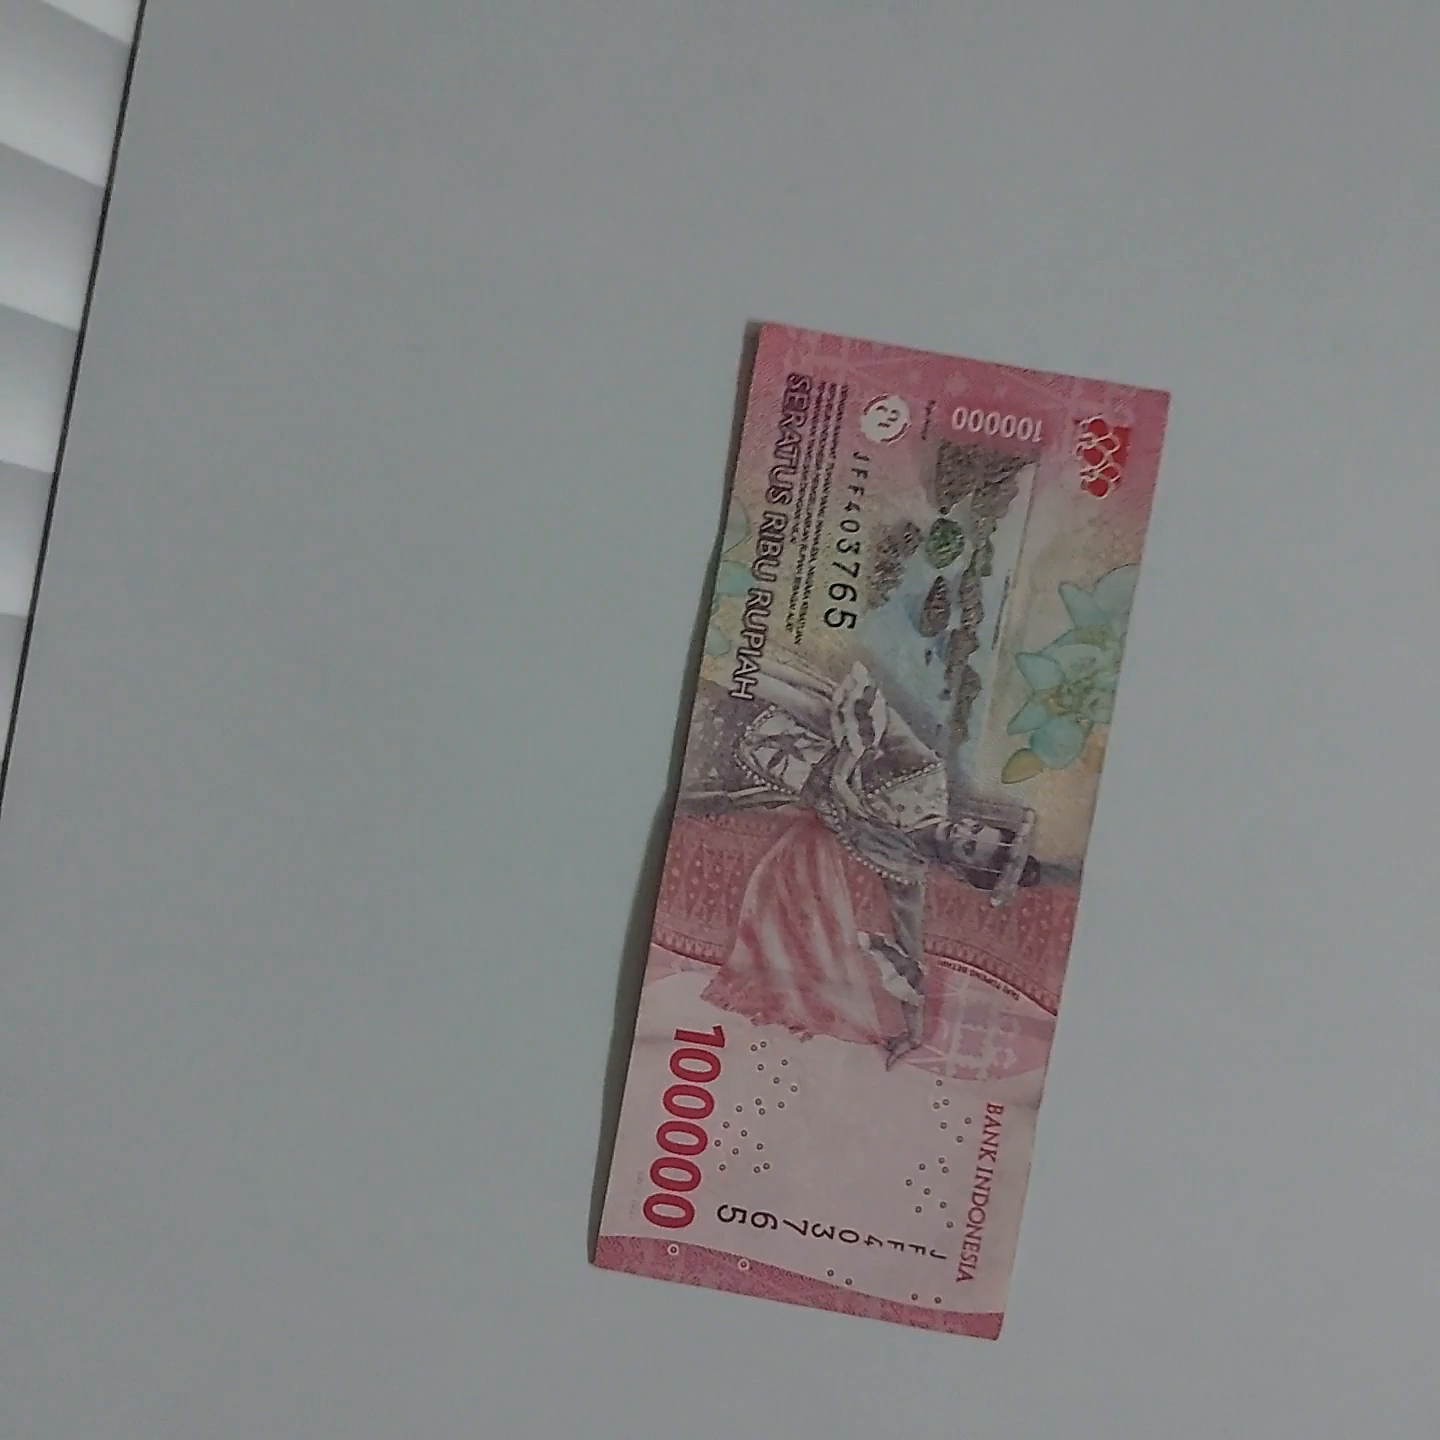100k: (724, 291, 1204, 1295)
